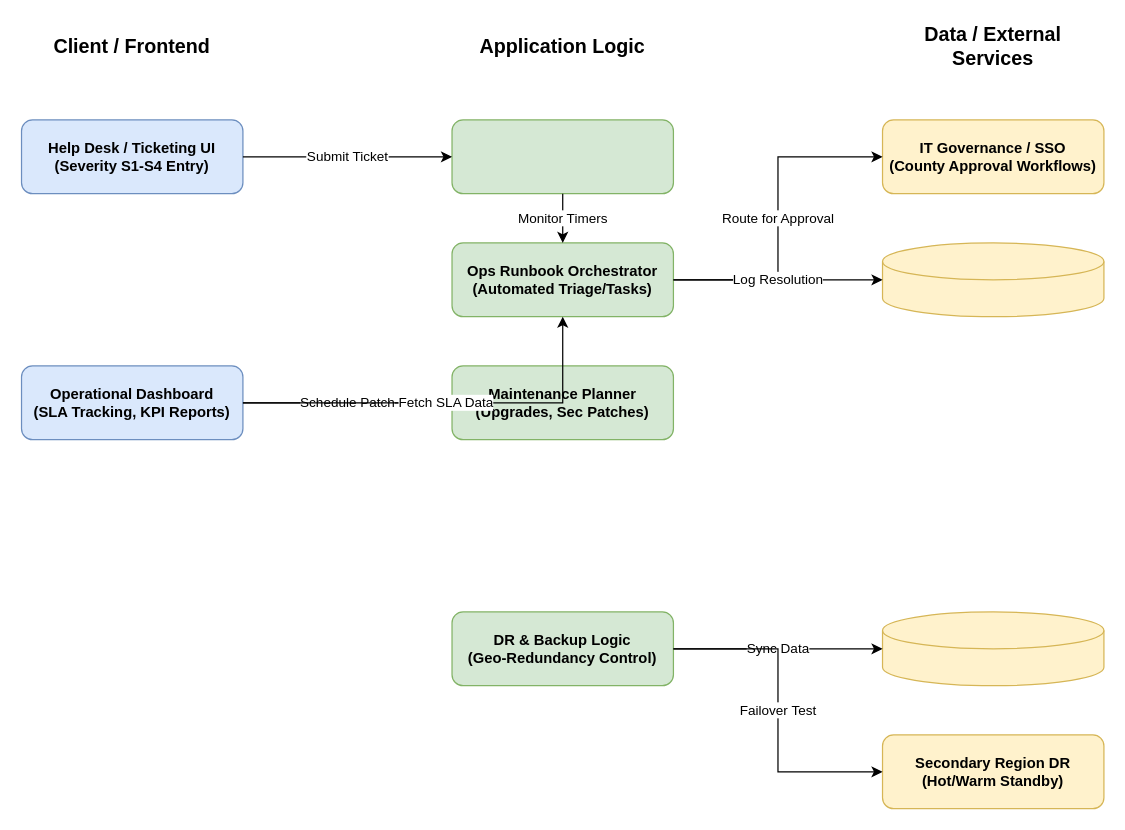
Some shapes in this 1125 by 830 pixel diagram are drawn without their labels. The centre of each missing label's shape, as x and y in pixels:
"Geo-Redundant Backup (WORM/Encrypted Snapshots)" goes at (x=992, y=648).
"SLA Monitoring Engine (Ack/Res Counters, Alerts)" goes at (x=562, y=156).
"Ticket & SLA Logs (Resolution Hist, Metrics)" goes at (x=992, y=279).
